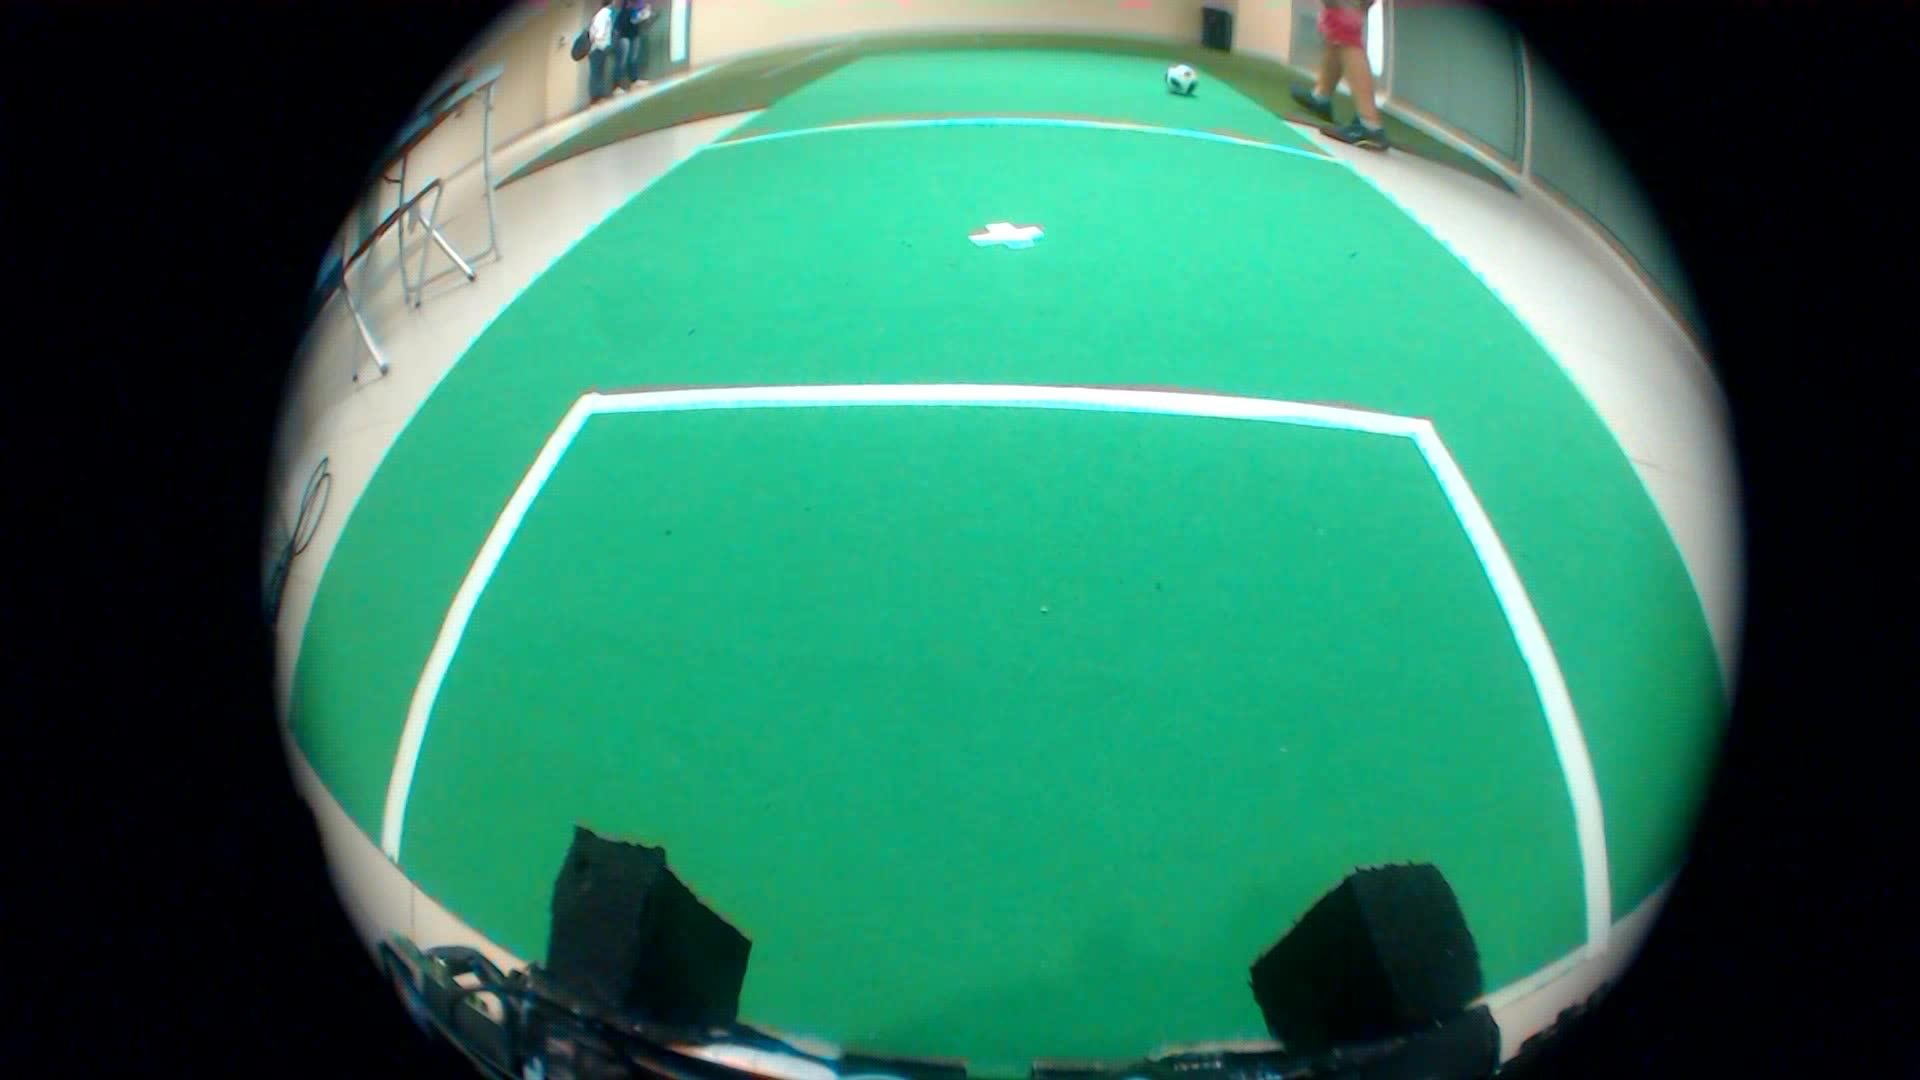ball: (1153, 55, 1203, 111)
